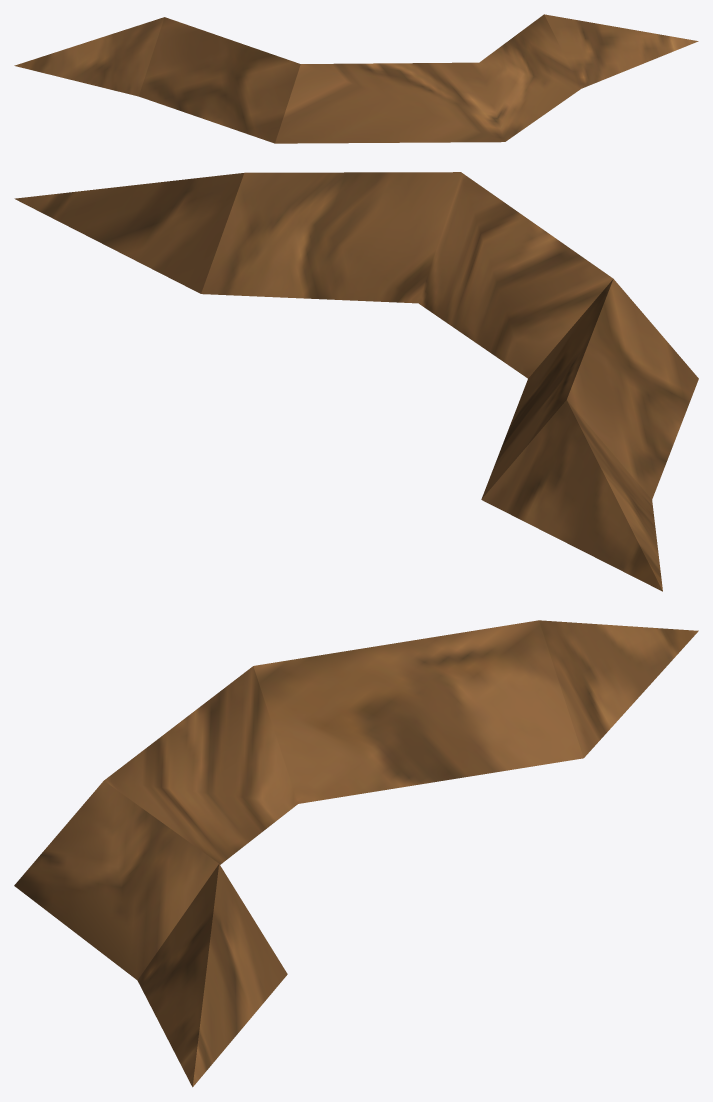
The model's file is FB_ShuLin_Shu_01.FBX.
3 views of the same model, one above another, from view 1: azimuth 30°, elevation 25°; view 2: azimuth 150°, elevation 25°; view 3: azimuth 270°, elevation 25° (orthographic). The views are drawn at different scales.
Visible parts, largest first — view 1: Box01; view 2: Box01; view 3: Box01.
Boxes of the visible parts, <box> form: Box01: <box>14,14,698,143</box>; Box01: <box>14,172,698,591</box>; Box01: <box>14,620,698,1087</box>.
Bounding box in the file's own units: 12.14 × 1.3 × 7.7.
